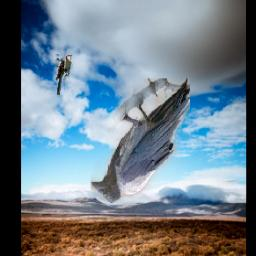Crow: (91, 79, 191, 204)
Cuckoo: (55, 55, 73, 96)
